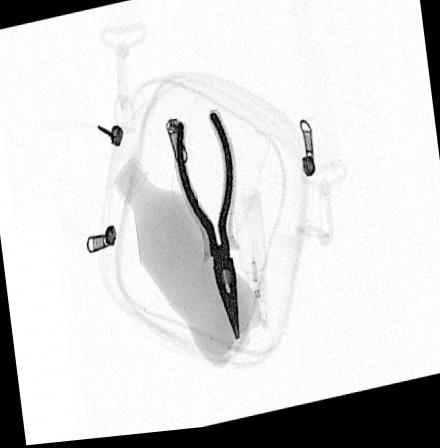Pliers: (169, 108, 242, 350)
